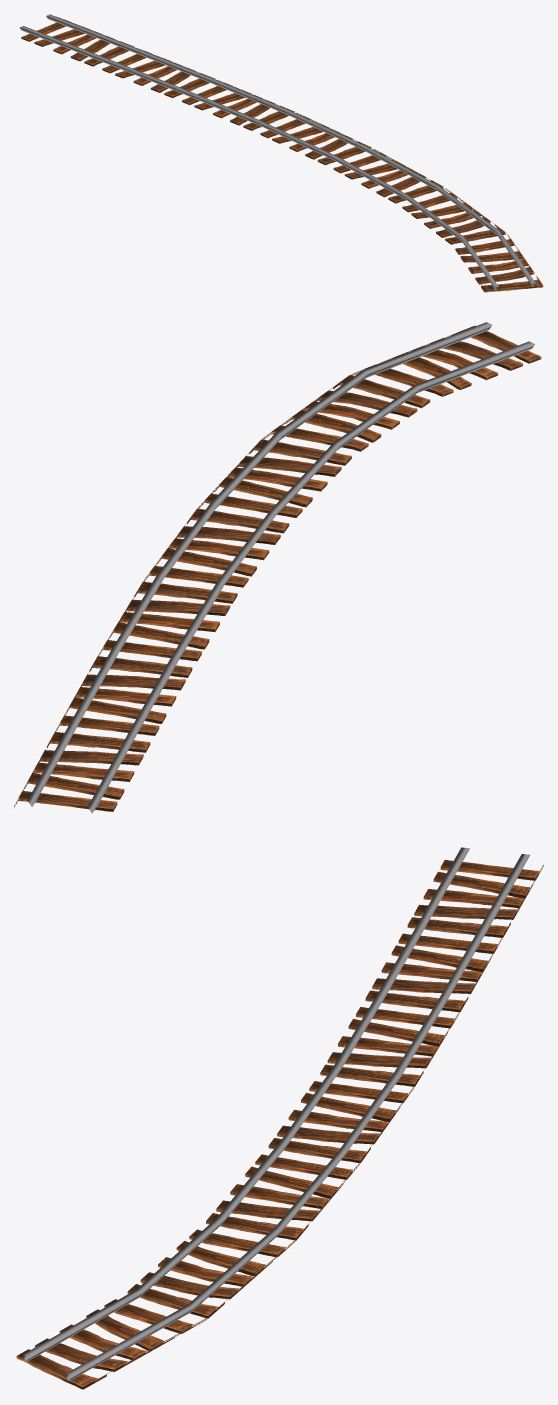
Rendered from SWORDLIGHT20_TRACK7.fbx.
3 renders of one model, top to bottom at view 1: azimuth 30°, elevation 25°; view 2: azimuth 150°, elevation 25°; view 3: azimuth 330°, elevation 25°, orthographic. The views are drawn at different scales.
Visible parts, largest first — view 1: SWORDLIGHT20_TRACK7; view 2: SWORDLIGHT20_TRACK7; view 3: SWORDLIGHT20_TRACK7.
Boxes of the visible parts, x1,y1,x2,y2 form: SWORDLIGHT20_TRACK7: [19, 14, 543, 292]; SWORDLIGHT20_TRACK7: [14, 322, 541, 813]; SWORDLIGHT20_TRACK7: [16, 847, 543, 1389].
Bounding box in the file's own units: 53830 × 6078 × 207786.
2 materials, 2 textured.
